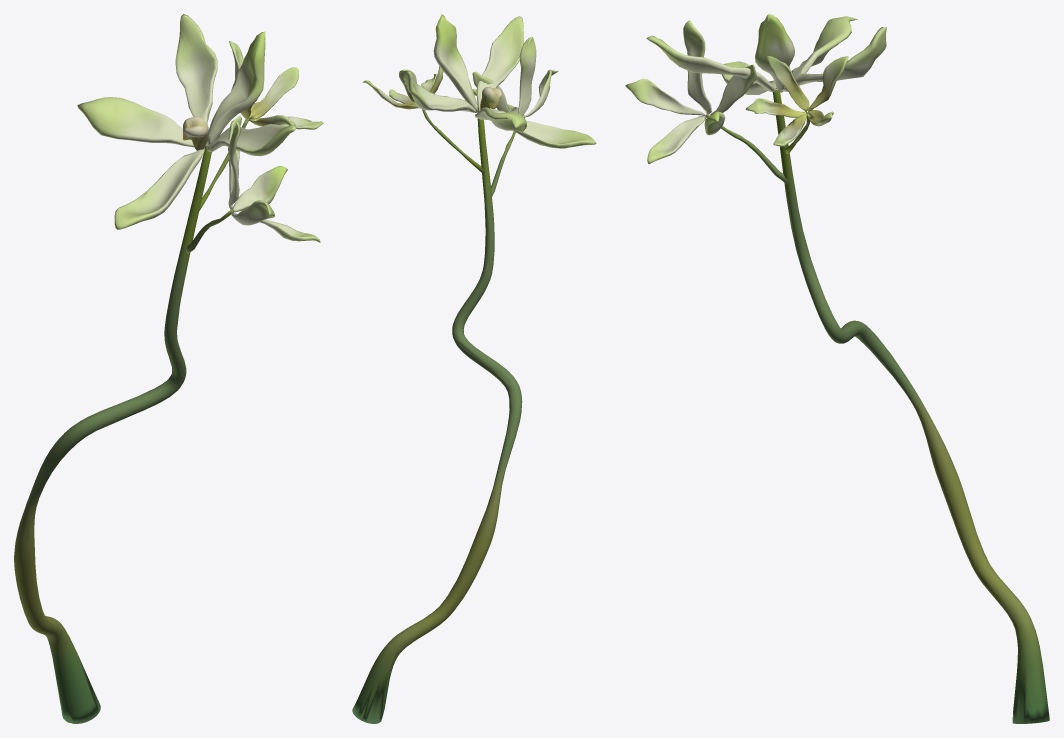
3 renders of one model, left to right at view 1: azimuth 30°, elevation 25°; view 2: azimuth 150°, elevation 25°; view 3: azimuth 270°, elevation 25°, orthographic. The views are drawn at different scales.
Parts seen in each view (by area): view 1: LOD 3_8817940389063460455_bb9398364d468ec489d5e3c54dd32286; view 2: LOD 3_8817940389063460455_bb9398364d468ec489d5e3c54dd32286; view 3: LOD 3_8817940389063460455_bb9398364d468ec489d5e3c54dd32286.
Part boxes in pixels (x1,y1,x2,y2): LOD 3_8817940389063460455_bb9398364d468ec489d5e3c54dd32286: (14, 14, 323, 723); LOD 3_8817940389063460455_bb9398364d468ec489d5e3c54dd32286: (352, 14, 596, 723); LOD 3_8817940389063460455_bb9398364d468ec489d5e3c54dd32286: (625, 14, 1049, 723).
Bounding box in the file's own units: 4.97 × 15.48 × 8.12.
